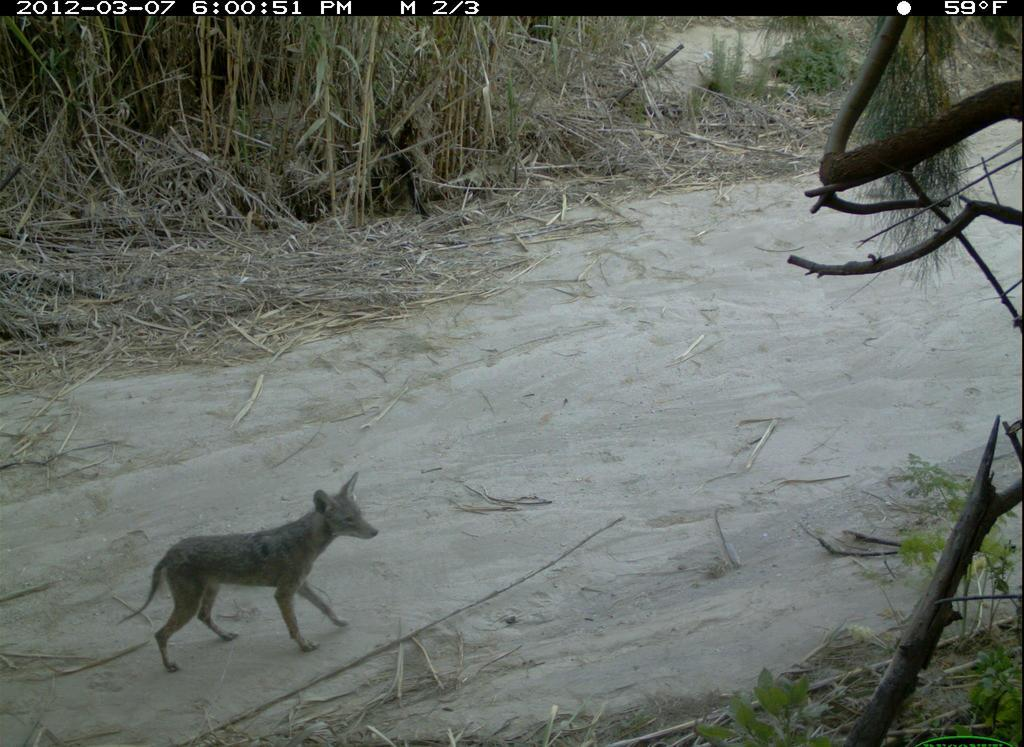coyote: (113, 454, 388, 656)
